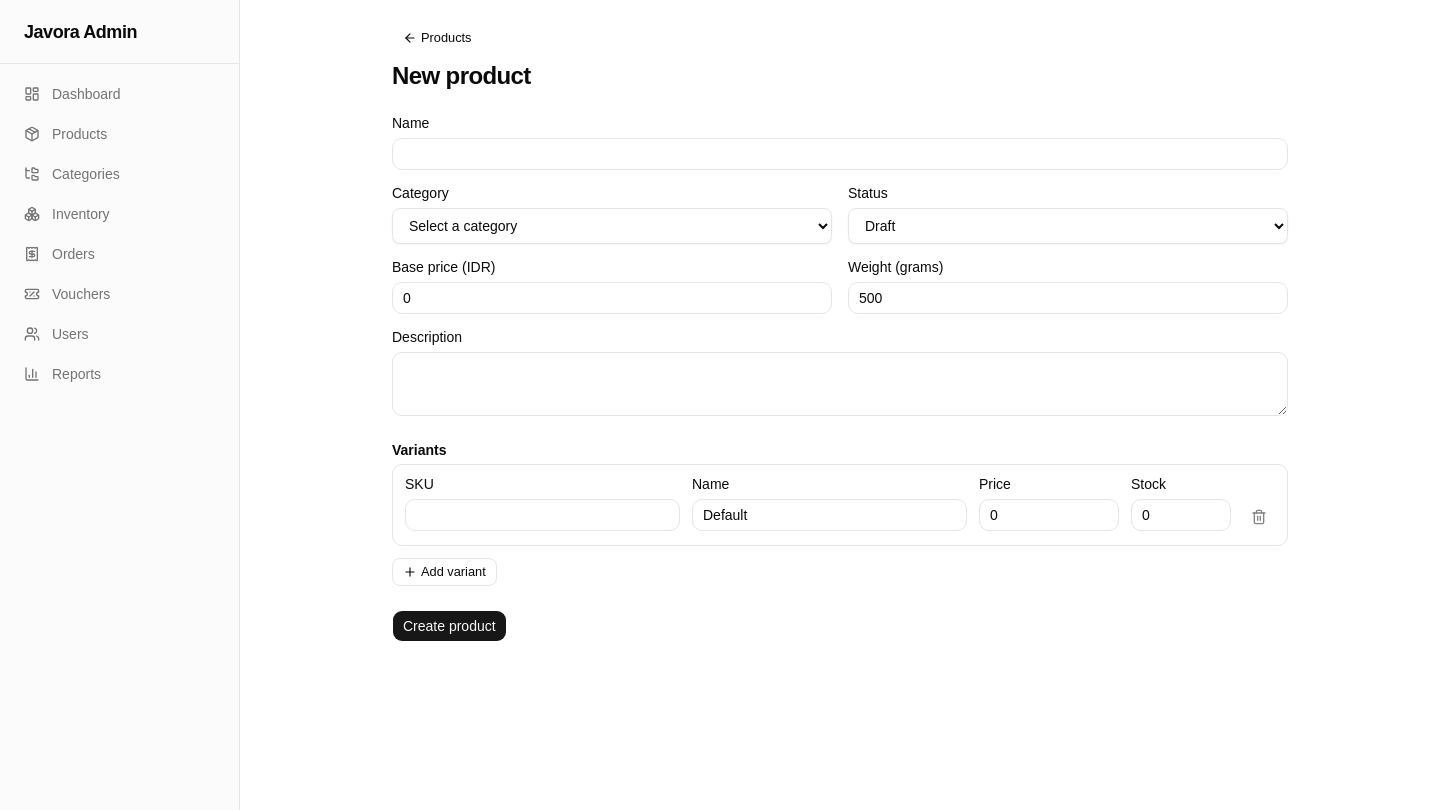
Test case: admin products › validates the create form before sending anything
The image size is (1440, 810).
Click the button "Create product": coordinates (449, 626) [392, 610, 507, 642]
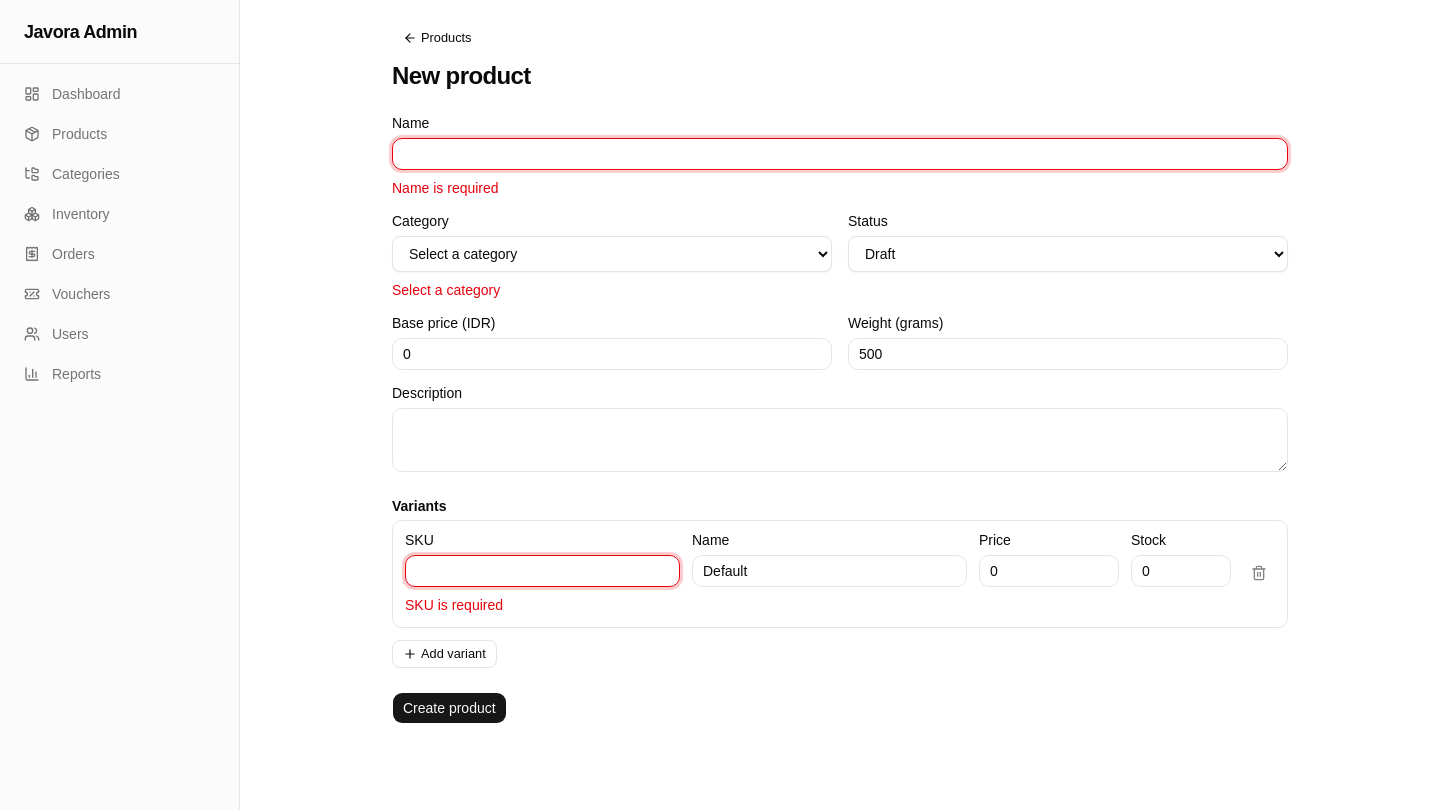
Expected: the text "Name is required" is shown, [392, 180, 499, 196]
Expected: the text "Select a category" is shown, [392, 282, 500, 298]
Expected: the text "SKU is required" is shown, [405, 597, 503, 613]
